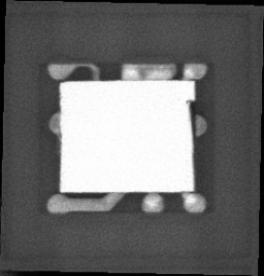DIE_BROKEN: (186, 98, 196, 139)
